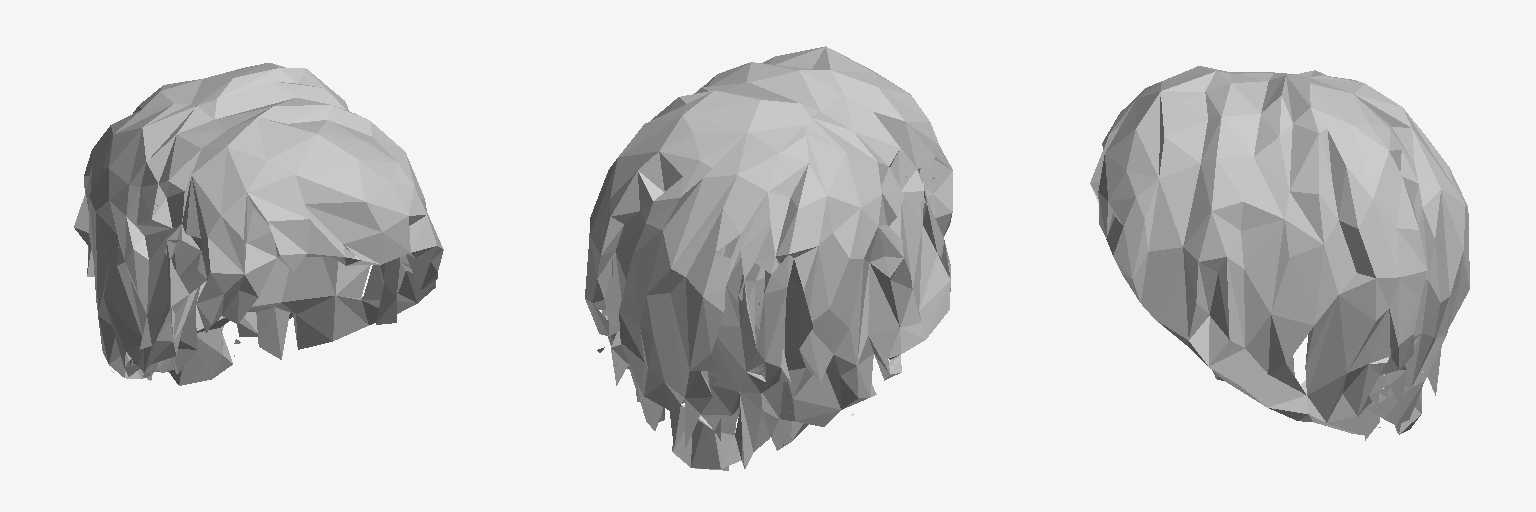
The model's file is hair female 1.obj.
3 renders of one model, left to right at view 1: azimuth 30°, elevation 25°; view 2: azimuth 150°, elevation 25°; view 3: azimuth 270°, elevation 25°, orthographic.
Visible parts, largest first — view 1: Object_Mesh; view 2: Object_Mesh; view 3: Object_Mesh.
Part boxes in pixels (bbox=[...]): Object_Mesh: bbox=[74, 63, 443, 385]; Object_Mesh: bbox=[585, 46, 952, 470]; Object_Mesh: bbox=[1090, 66, 1469, 440].
Bounding box in the file's own units: 0.4387 × 0.4942 × 0.5015.